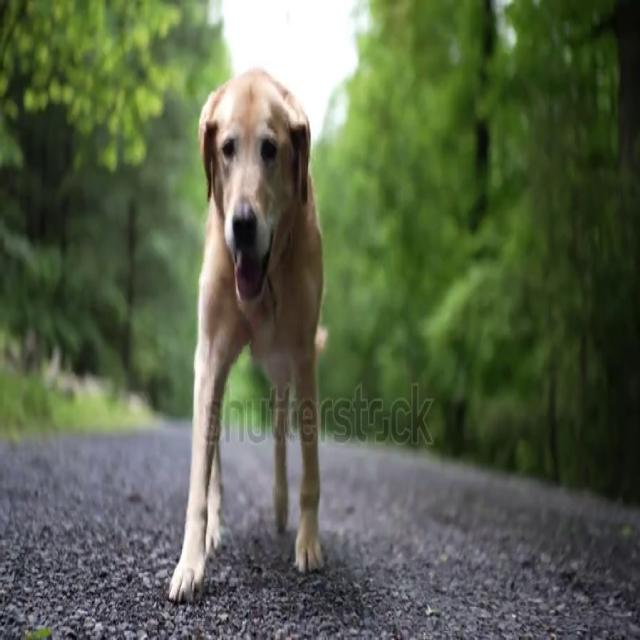normal_animals: (164, 63, 330, 607)
